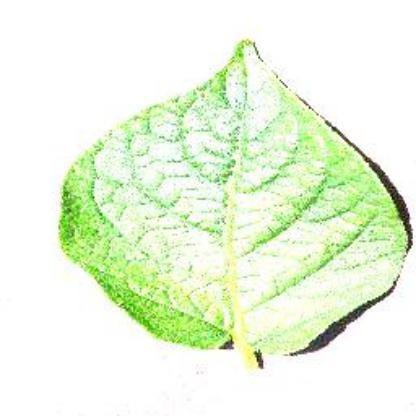Healthy-plant: (50, 35, 410, 368)
